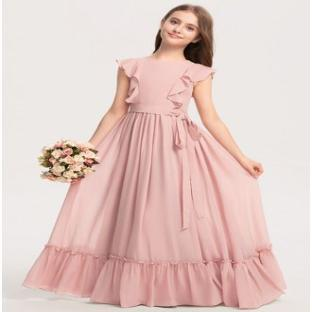Human: (23, 4, 286, 308)
